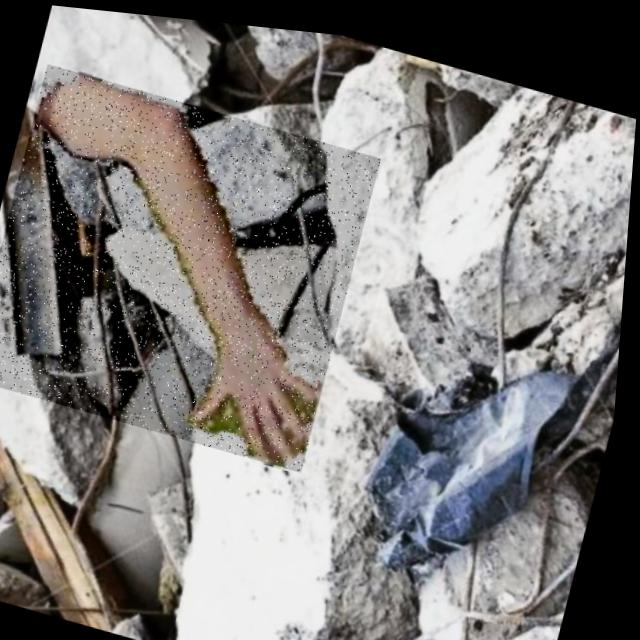Person in Rubble: (0, 57, 386, 469)
